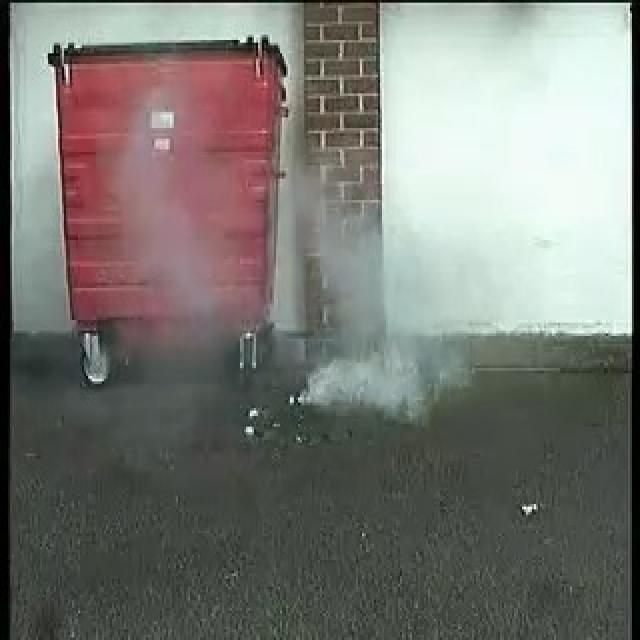smoke: (286, 182, 467, 420)
